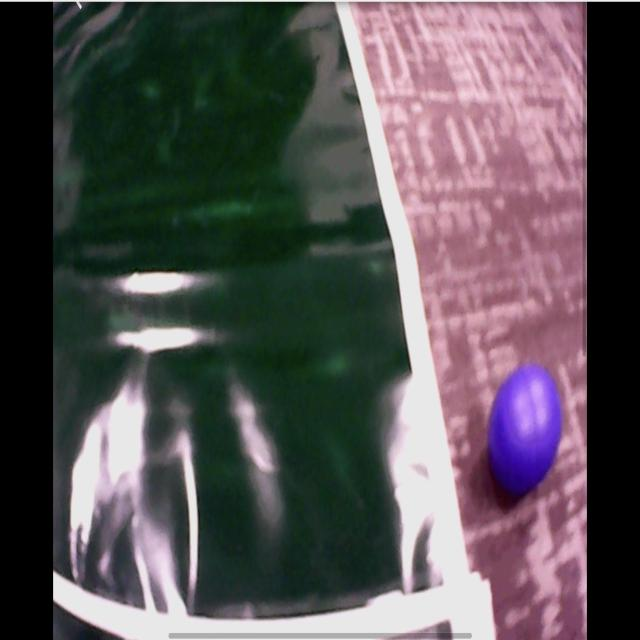ball: (487, 369, 561, 489)
